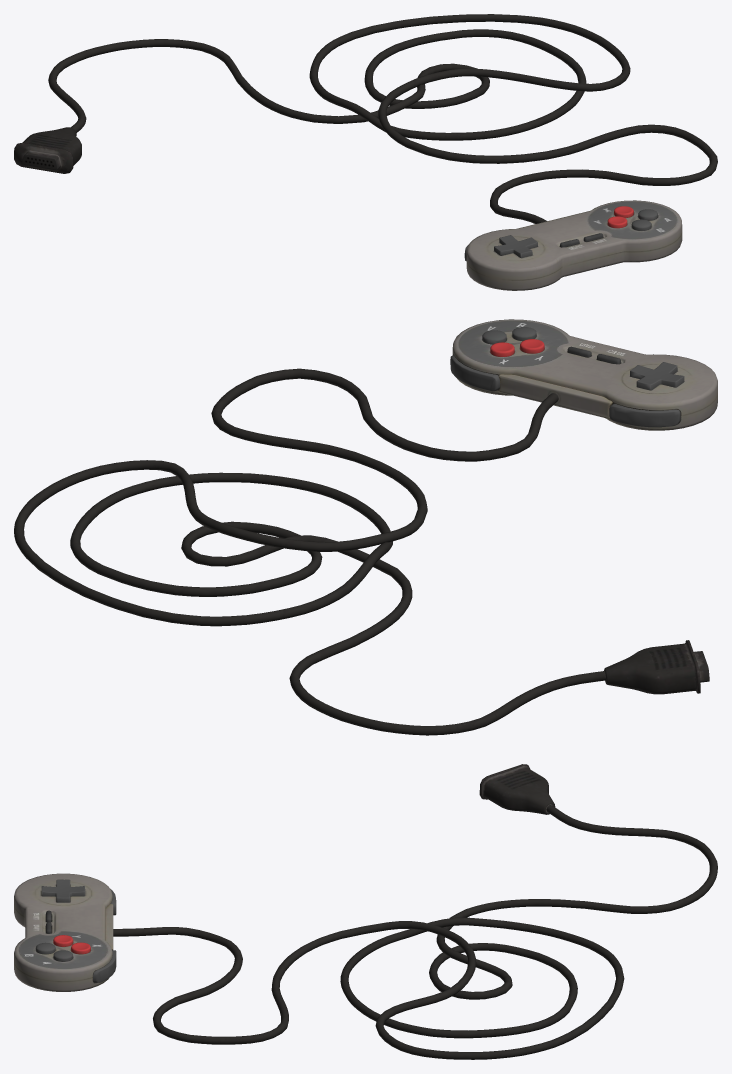
Rendered from gamepad.glb.
The picture shows the model from 3 angles, top to bottom: view 1: azimuth 30°, elevation 25°; view 2: azimuth 150°, elevation 25°; view 3: azimuth 270°, elevation 25°; orthographic projection. The views are drawn at different scales.
Parts seen in each view (by area): view 1: gamepad; view 2: gamepad; view 3: gamepad.
Part boxes in pixels (<box>): gamepad: <box>14,14,717,290</box>; gamepad: <box>14,319,717,735</box>; gamepad: <box>14,764,717,1059</box>.
Size of the model in its own units: 0.4041 by 0.0189 by 0.435.
1 material, 1 textured.
